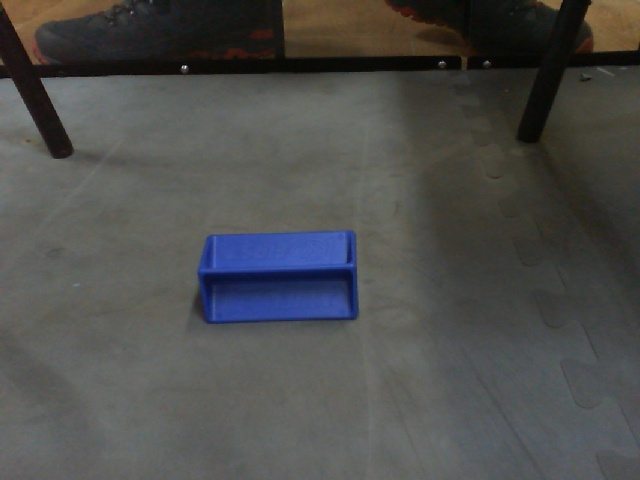BlueSample: (192, 225, 363, 325)
